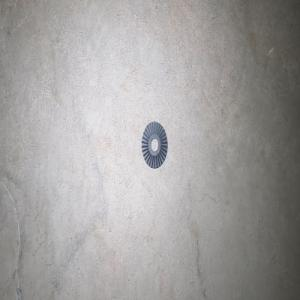Washer: (141, 121, 167, 168)
